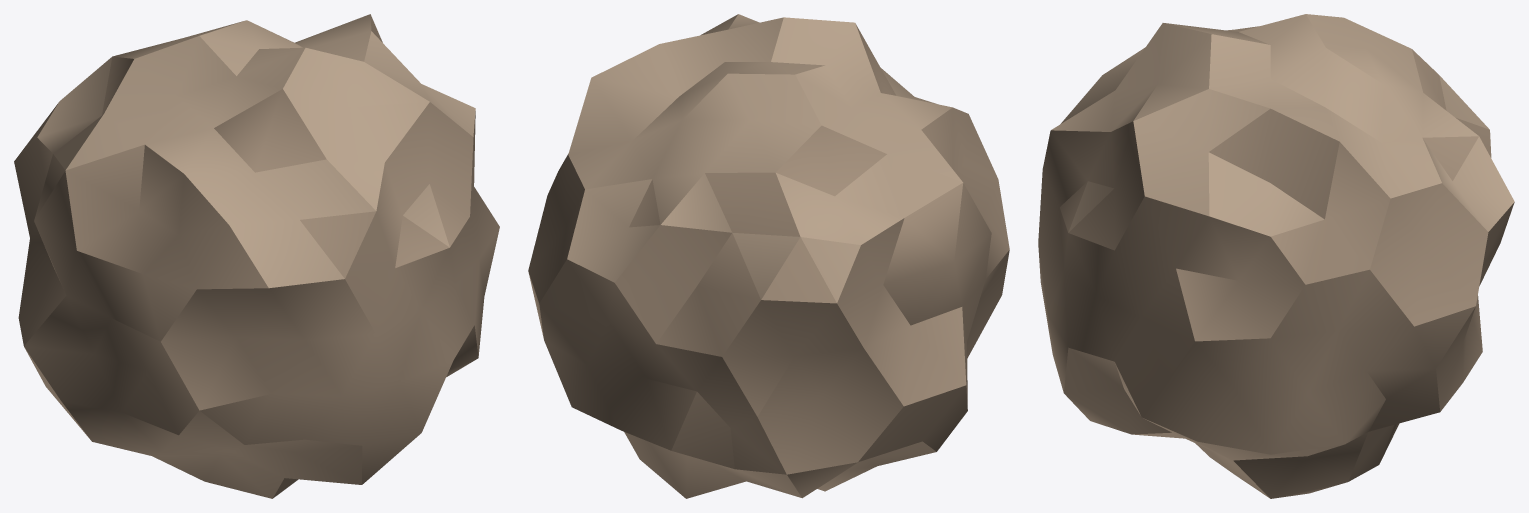
Rendered from boulder.glb.
3 views of the same model, side by side, from view 1: azimuth 30°, elevation 25°; view 2: azimuth 150°, elevation 25°; view 3: azimuth 270°, elevation 25° (orthographic).
Parts seen in each view (by area): view 1: boulder; view 2: boulder; view 3: boulder.
Boxes of the visible parts, x1,y1,x2,y2 form: boulder: [14, 14, 499, 498]; boulder: [528, 14, 1009, 498]; boulder: [1038, 14, 1514, 498].
Bounding box in the file's own units: 2.25 × 2.3 × 2.23.
